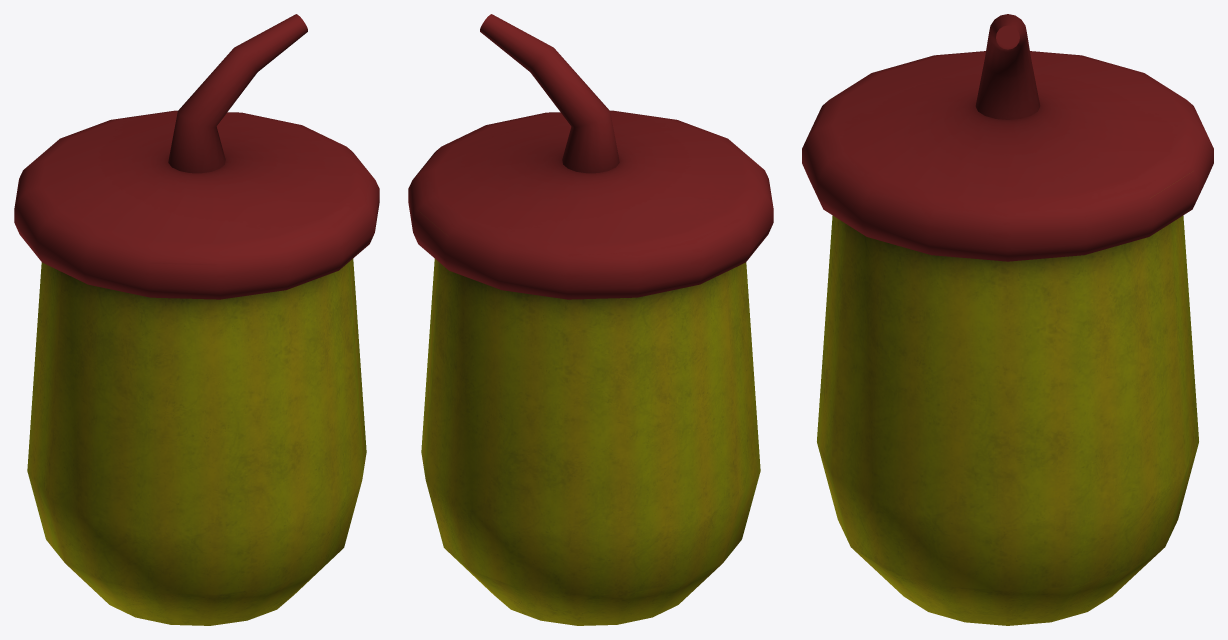
File: Nasiono.fbx
3 renders of one model, left to right at view 1: azimuth 30°, elevation 25°; view 2: azimuth 150°, elevation 25°; view 3: azimuth 270°, elevation 25°, orthographic. The views are drawn at different scales.
Visible parts, largest first — view 1: Nasiono; view 2: Nasiono; view 3: Nasiono.
Boxes of the visible parts, bbox=[...] form: Nasiono: bbox=[14, 14, 379, 625]; Nasiono: bbox=[408, 14, 773, 625]; Nasiono: bbox=[802, 14, 1213, 625].
Bounding box in the file's own units: 0.0393 × 0.0676 × 0.0393.
